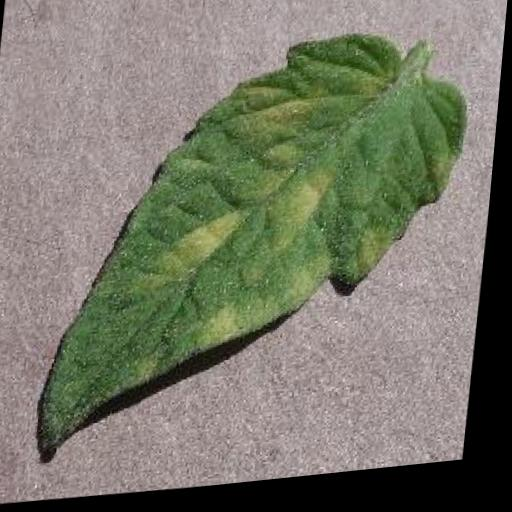Leaf Mold: (41, 28, 478, 472)
